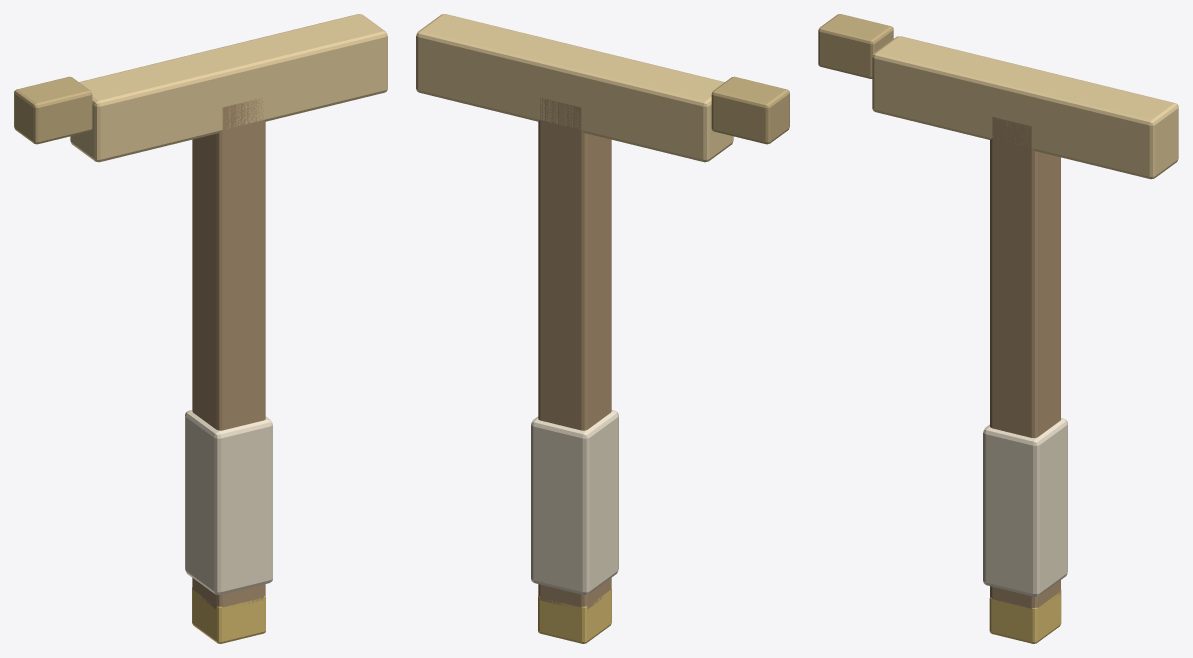
Rendered from weapon_brindle_pickaxe.glb.
3 views of the same model, side by side, from view 1: azimuth 30°, elevation 25°; view 2: azimuth 150°, elevation 25°; view 3: azimuth 330°, elevation 25° (orthographic). The views are drawn at different scales.
Parts seen in each view (by area): view 1: Pick_head, Haft, Grip_wrap, Pick_point_L, Butt_cap; view 2: Pick_head, Haft, Grip_wrap, Pick_point_L, Butt_cap; view 3: Pick_head, Haft, Grip_wrap, Pick_point_L, Butt_cap.
Boxes of the visible parts, <box> form: Pick_head: <box>70,14,387,162</box>; Haft: <box>192,99,265,608</box>; Grip_wrap: <box>185,410,272,594</box>; Pick_point_L: <box>14,76,92,144</box>; Butt_cap: <box>192,587,265,643</box>; Pick_head: <box>416,14,733,162</box>; Haft: <box>538,98,611,608</box>; Grip_wrap: <box>531,410,618,594</box>; Pick_point_L: <box>711,76,789,144</box>; Butt_cap: <box>538,587,611,643</box>; Pick_head: <box>872,36,1178,179</box>; Haft: <box>990,117,1060,608</box>; Grip_wrap: <box>983,418,1067,596</box>; Pick_point_L: <box>818,14,893,78</box>; Butt_cap: <box>989,589,1061,643</box>.
Size of the model in its own units: 0.36 by 0.57 by 0.06.
